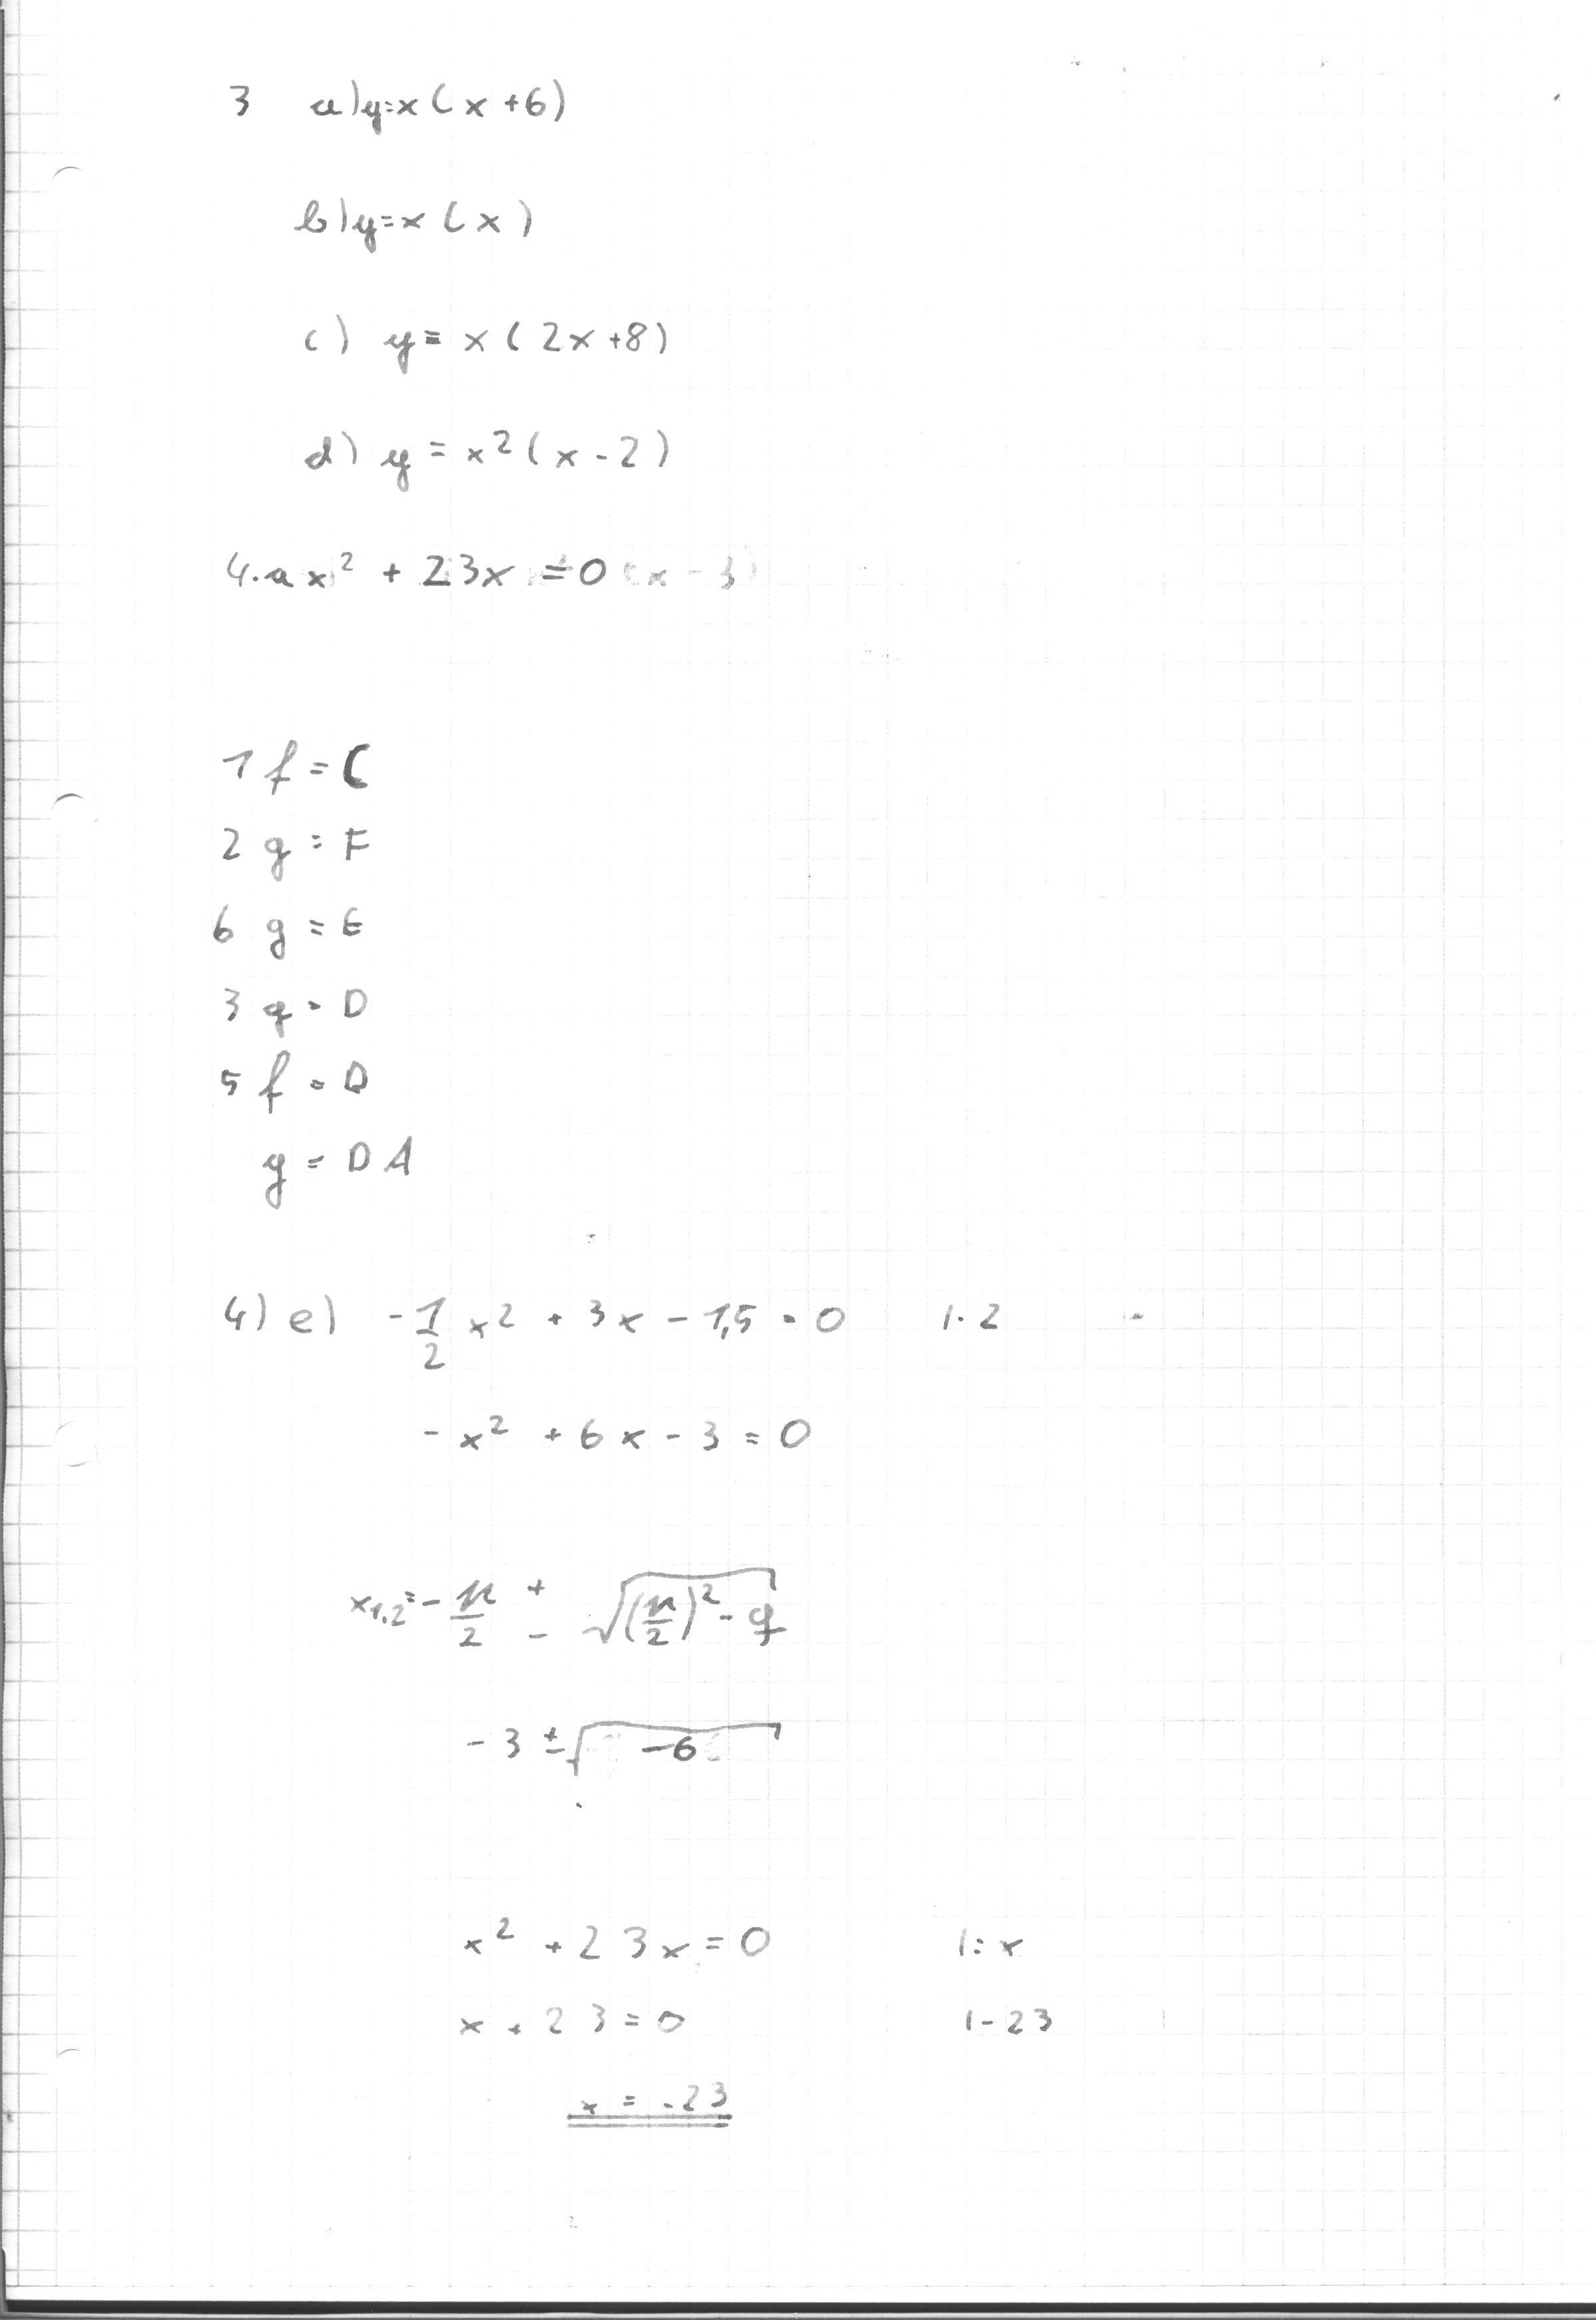word: (207, 1267, 1028, 1480), (176, 723, 467, 1232), (330, 1553, 818, 1797), (268, 290, 714, 528), (438, 1896, 791, 2147), (278, 59, 589, 274), (177, 515, 766, 627), (919, 1904, 1076, 2058)
